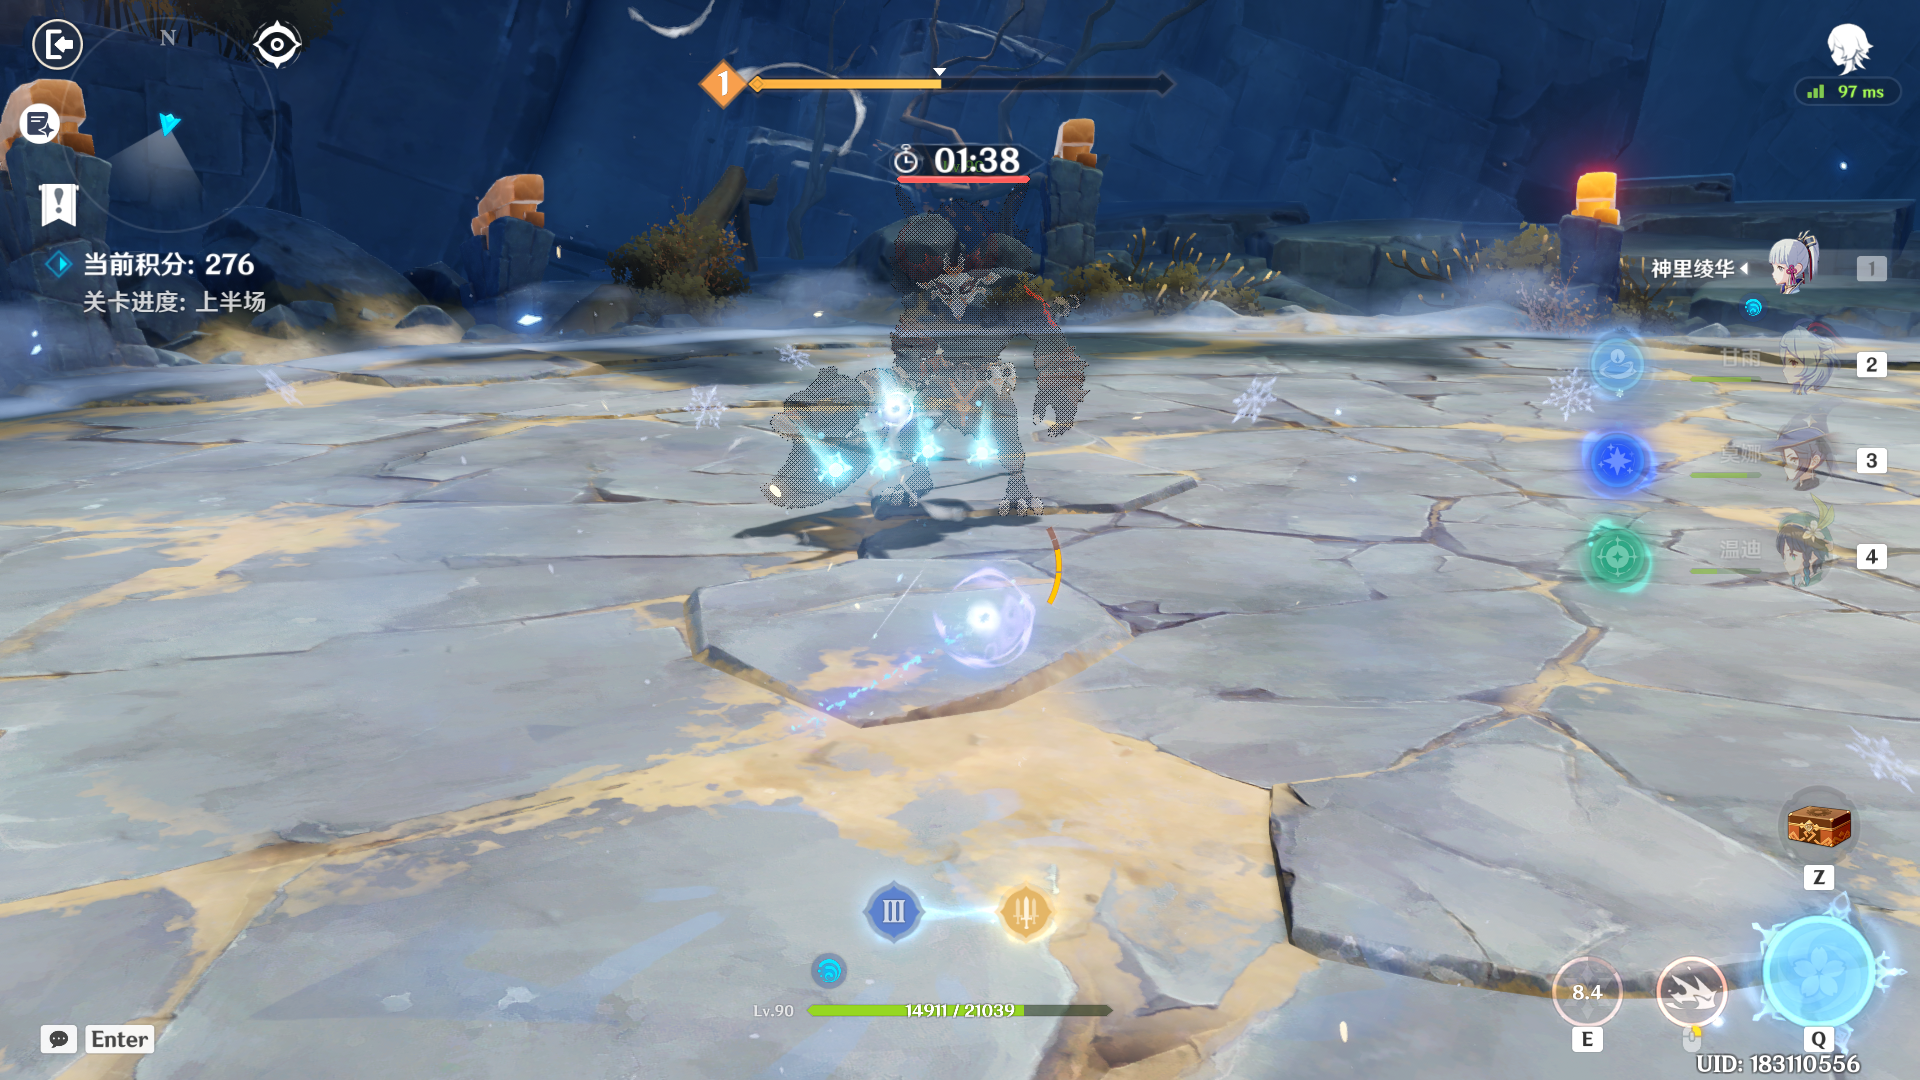bighili: (764, 218, 1124, 563)
